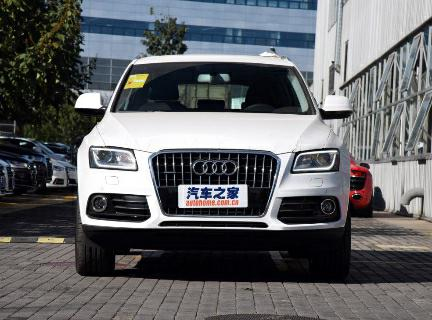奥迪-Q5: (62, 43, 360, 278)
